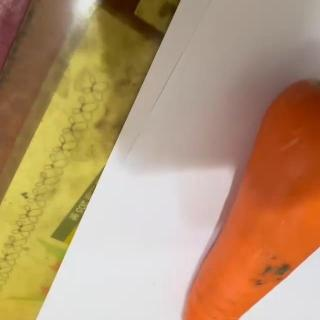carrot: (180, 54, 320, 320)
